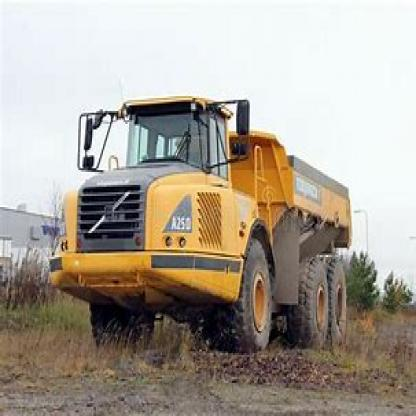dump_truck: (48, 83, 361, 348)
